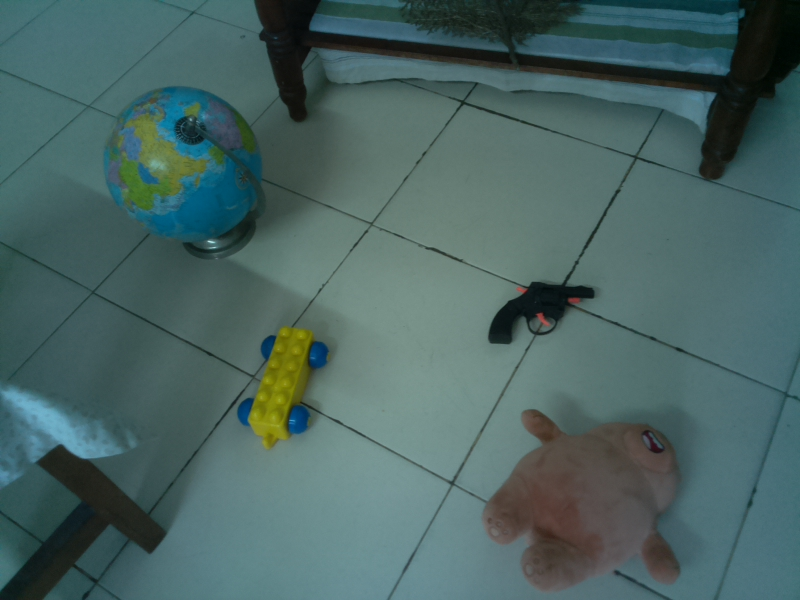Gun: (480, 272, 601, 354)
toy_Car: (233, 318, 336, 451)
